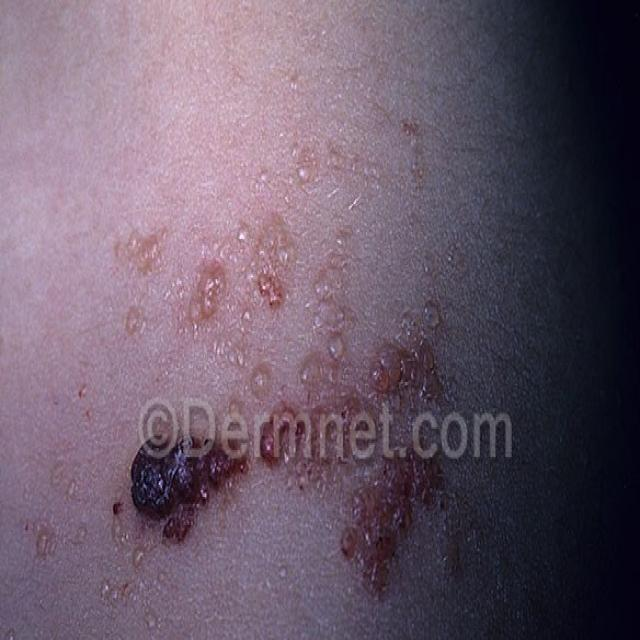Vascular Tumors: (110, 114, 492, 395), (111, 449, 456, 606), (22, 495, 90, 565)
